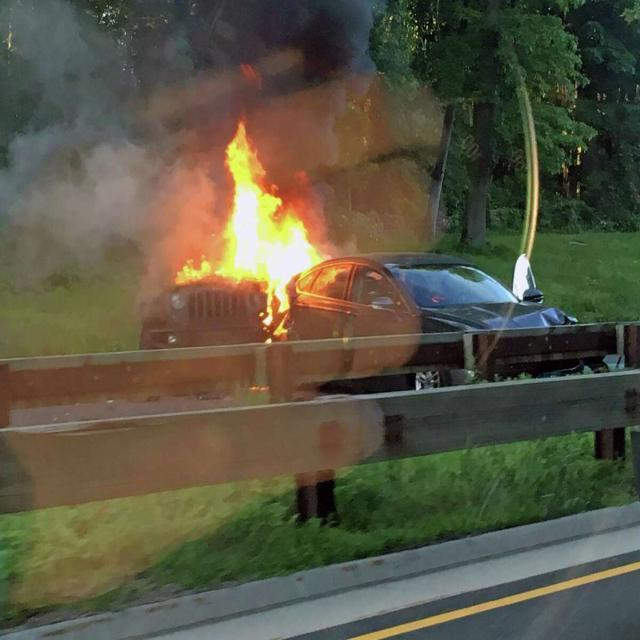Fire: (171, 120, 325, 333)
Smoke: (0, 0, 434, 316)
